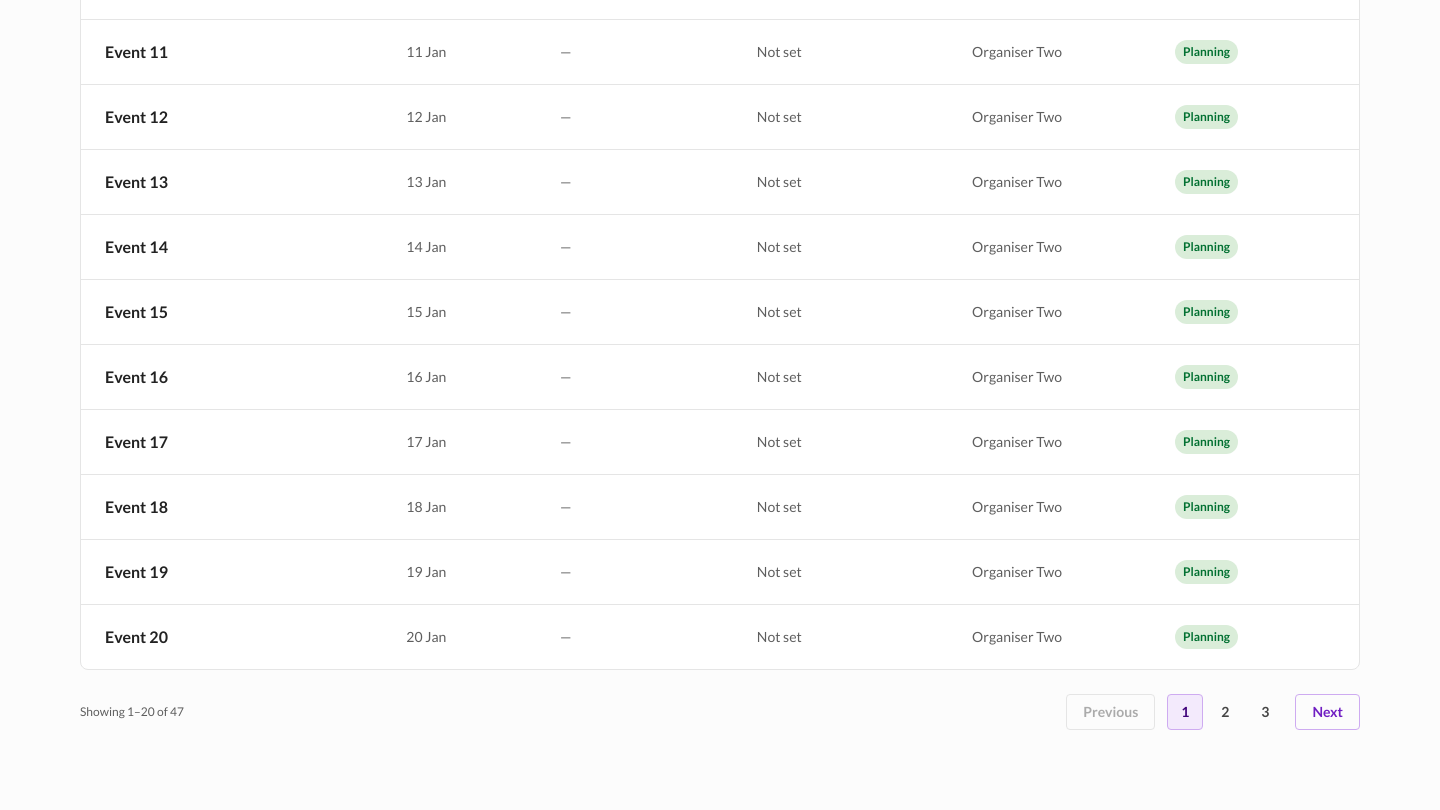
LeadCoordinatorView — subheaders, chips and pagination › returns to page 1 when a chip is chosen
The image size is (1440, 810).
(page scrolled)
Click the button named "Page 3": (1265, 712) 1247,694 -> 1283,730
(page scrolled)
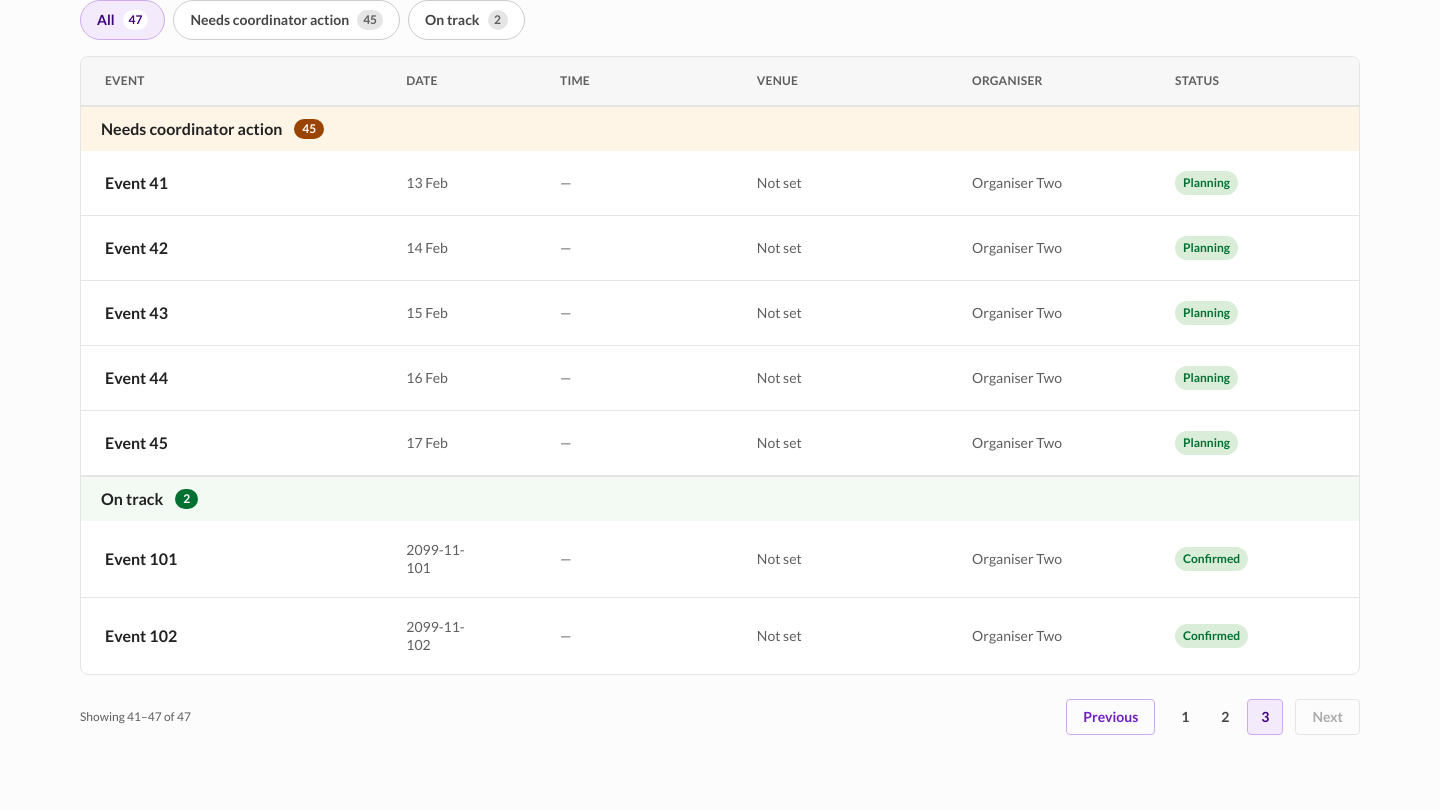
Click the button with class "chip" showing "On track 2": (466, 20) 408,0 -> 524,40
(page scrolled)
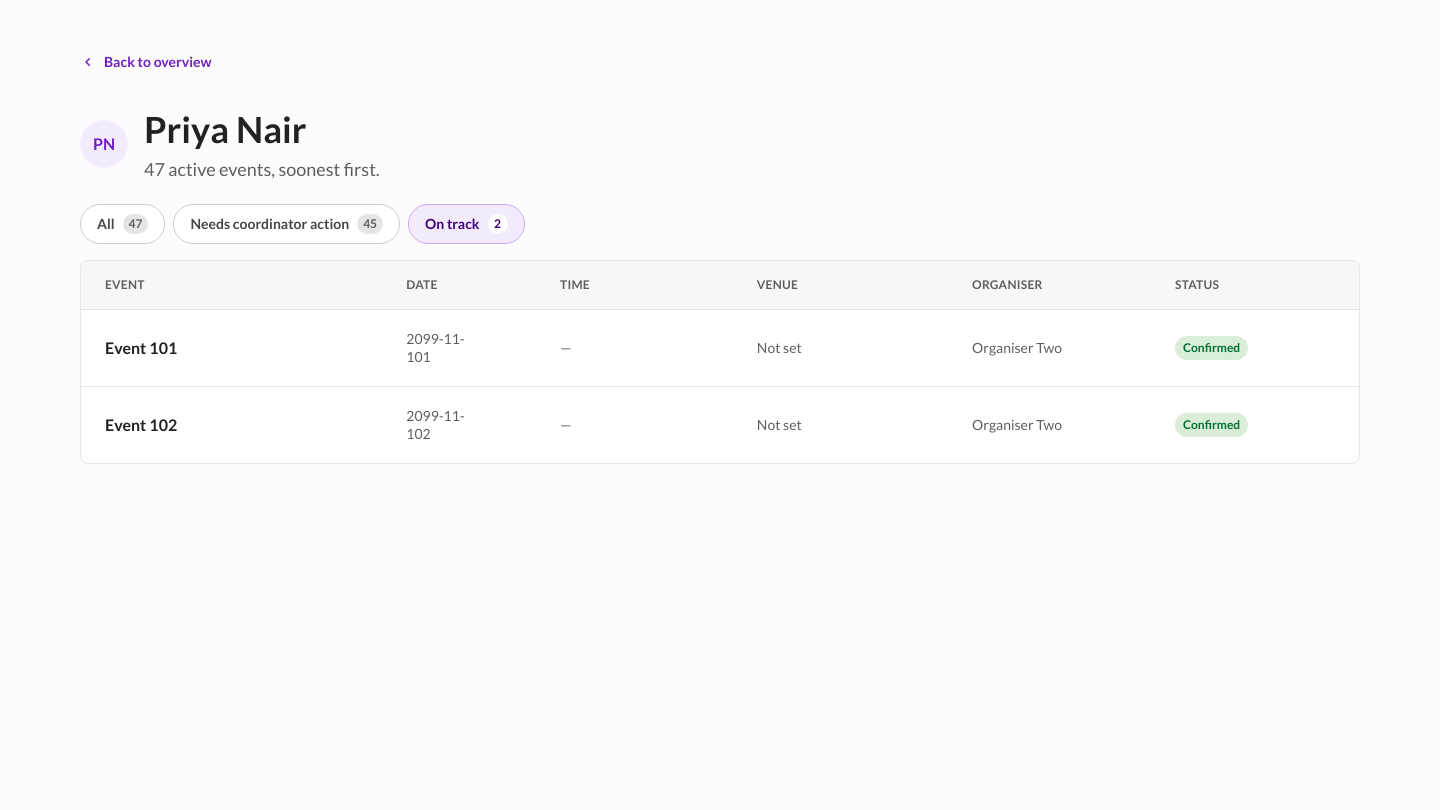
Click the button with class "chip" showing "All 47": (123, 224) 80,204 -> 166,244
(page scrolled)
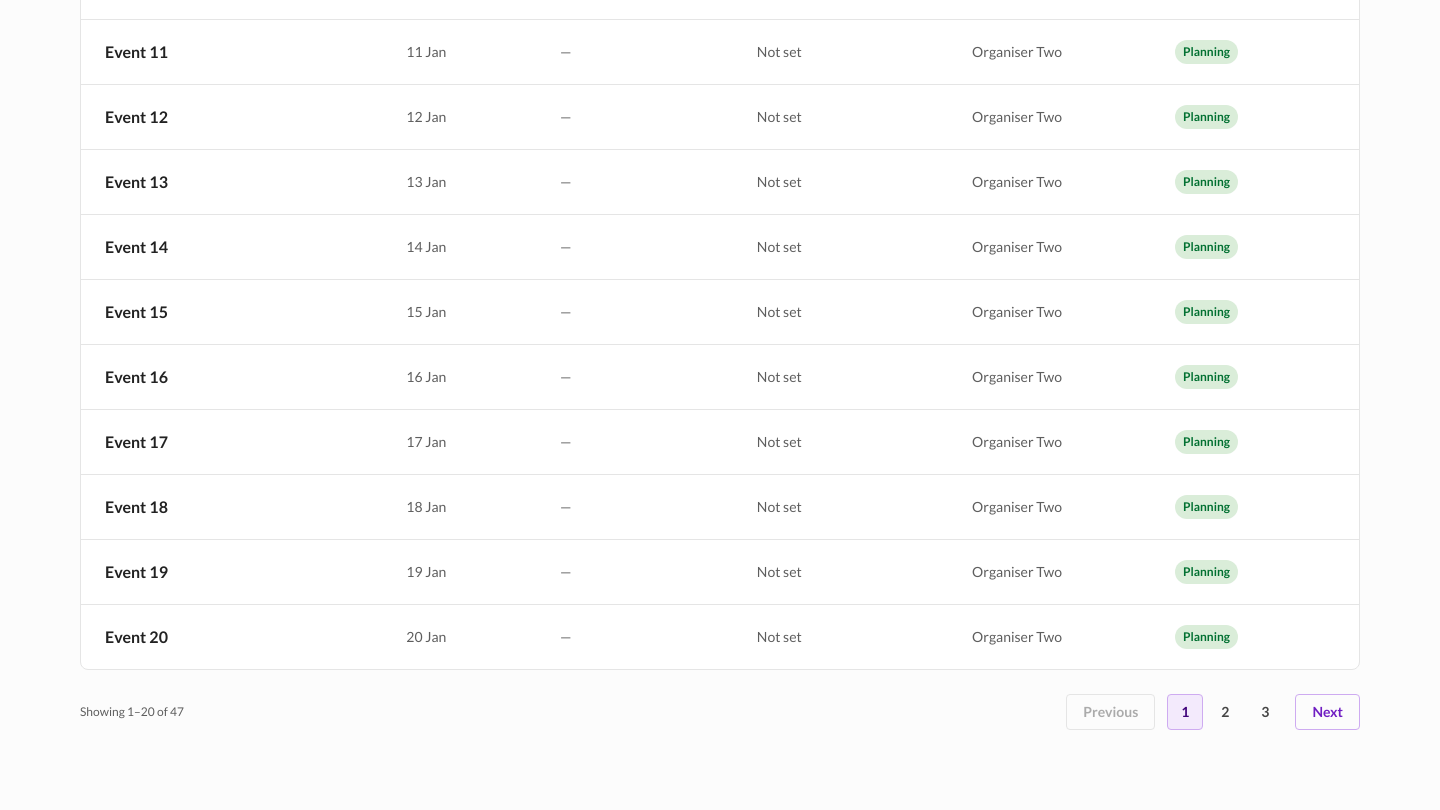
Result: the text with test id "pagination-summary" reads "Showing 1–20 of 47" at 80,704 -> 184,719
